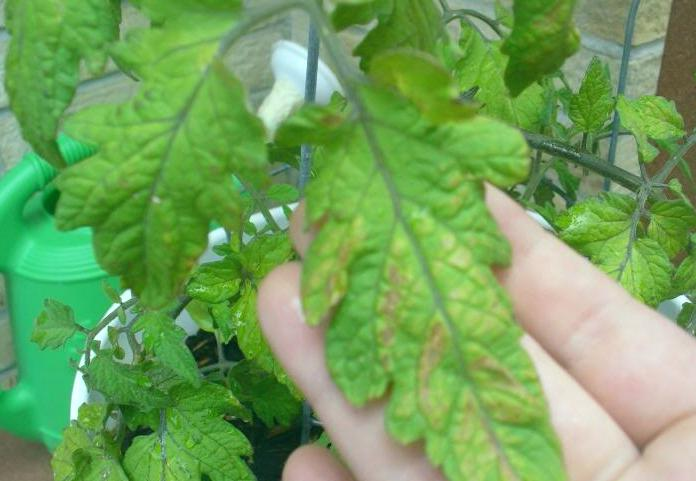Tomato leaf bacterial spot: (289, 49, 587, 481), (91, 0, 283, 325)
